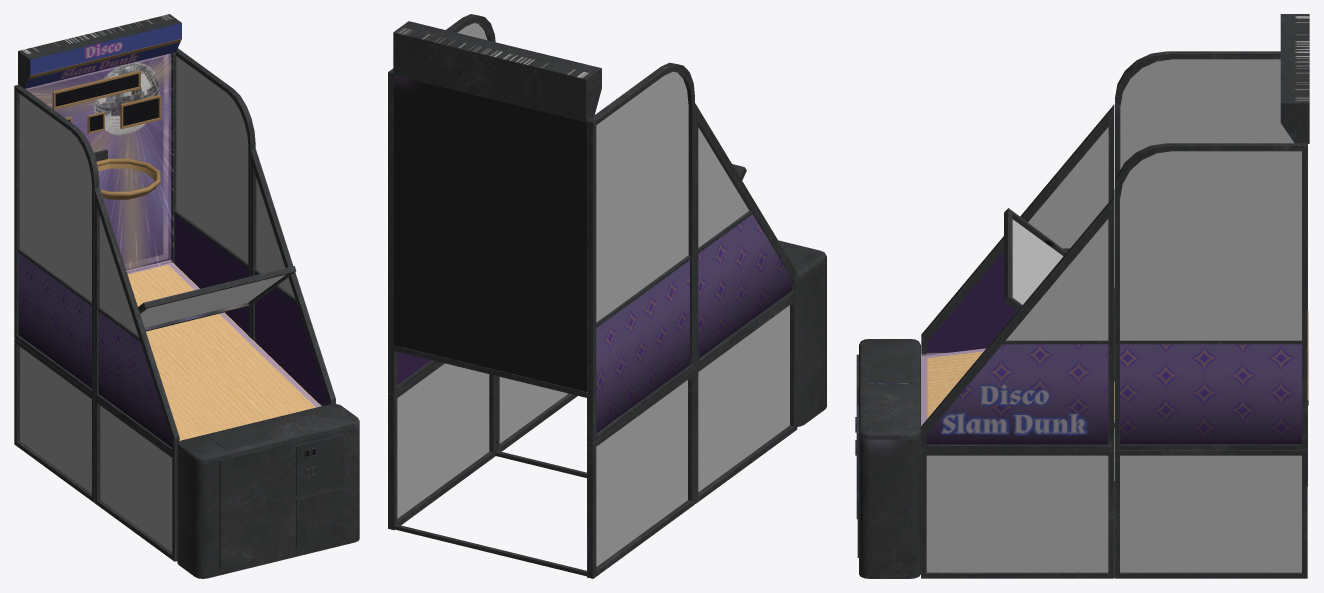
Rendered from slamdunk.fbx.
3 renders of one model, left to right at view 1: azimuth 30°, elevation 25°; view 2: azimuth 150°, elevation 25°; view 3: azimuth 270°, elevation 25°, orthographic. The views are drawn at different scales.
Parts seen in each view (by area): view 1: SM_ArcadeCabinet_Case_7a.001; view 2: SM_ArcadeCabinet_Case_7a.001; view 3: SM_ArcadeCabinet_Case_7a.001.
Boxes of the visible parts, x1,y1,x2,y2 form: SM_ArcadeCabinet_Case_7a.001: (14,14,359,578); SM_ArcadeCabinet_Case_7a.001: (388,14,826,578); SM_ArcadeCabinet_Case_7a.001: (855,14,1309,578).
Bounding box in the file's own units: 14037 × 32179 × 28045.
